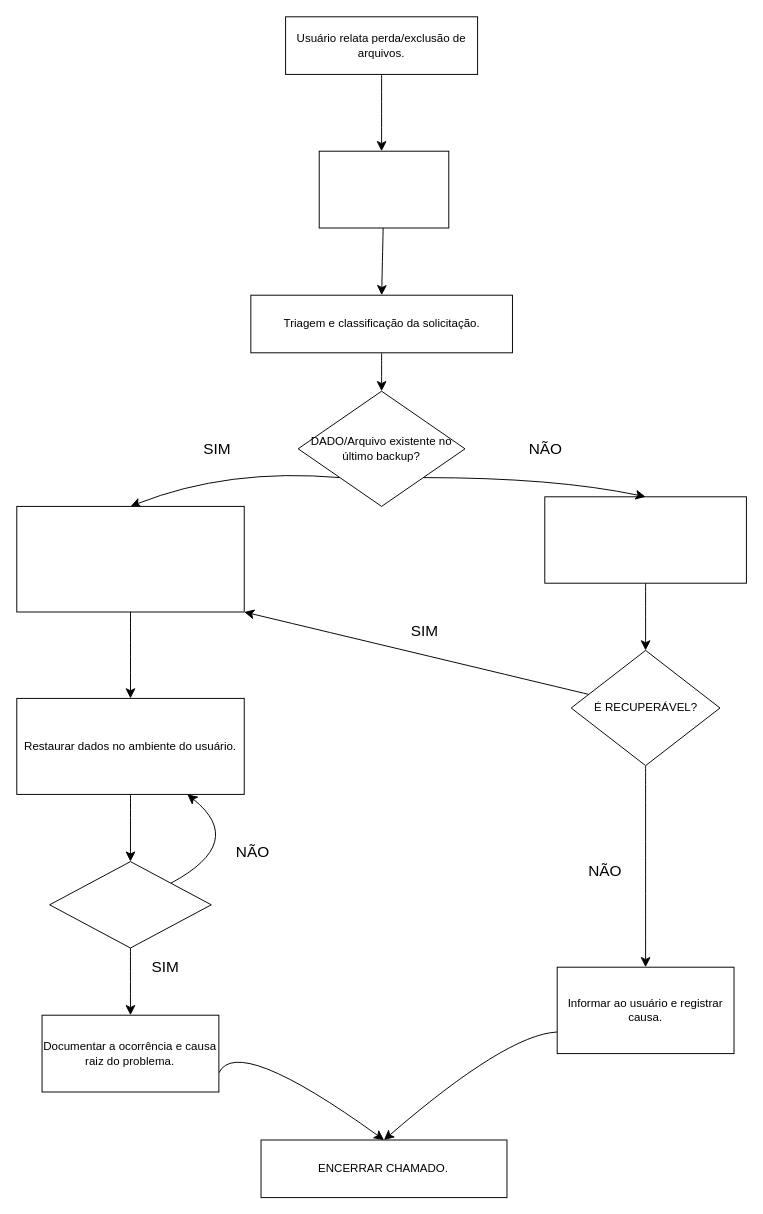
The diagram is 763 pixels wide and 1214 high, and some of its shapes have lost their labels. The shapes that lost their labels are listed below. From the top down, each one's box as (x1, y1, x2, y2) in pixels, then its label:
(318, 150, 449, 228): Abertura e registro de chamado.
(16, 505, 244, 612): Identificar ponto de restauração do arquivo / pasta e, ou diretório.
(544, 496, 746, 583): Verificar BACKUPS anteriores e mídias de restauração criadas.
(49, 861, 211, 948): Restauração validada pelo user?
